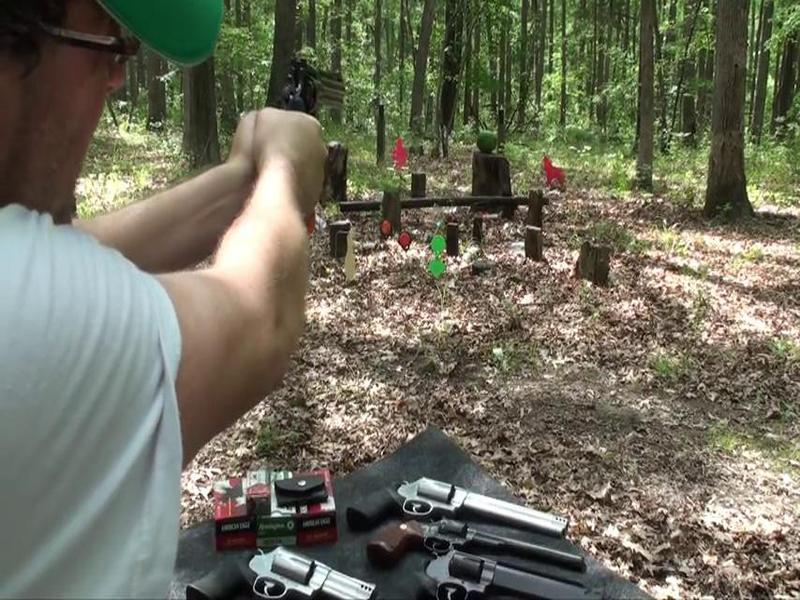Revolver: (277, 44, 365, 154)
